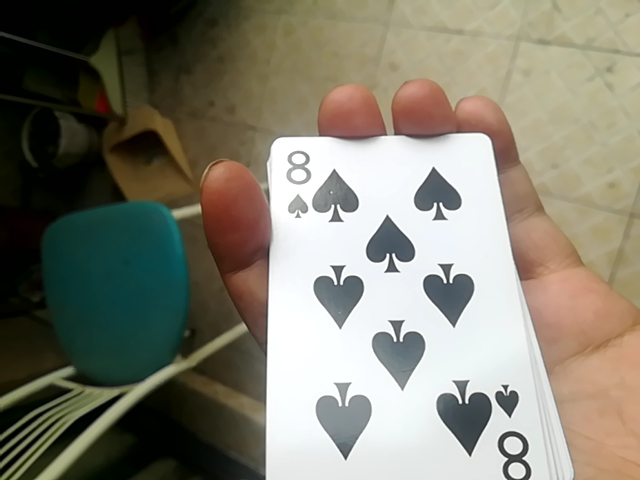ht 8: (259, 122, 557, 480)
